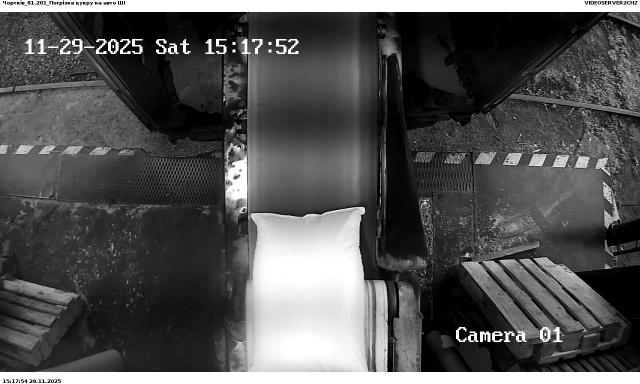bag: (249, 207, 368, 371), (252, 213, 254, 214)
